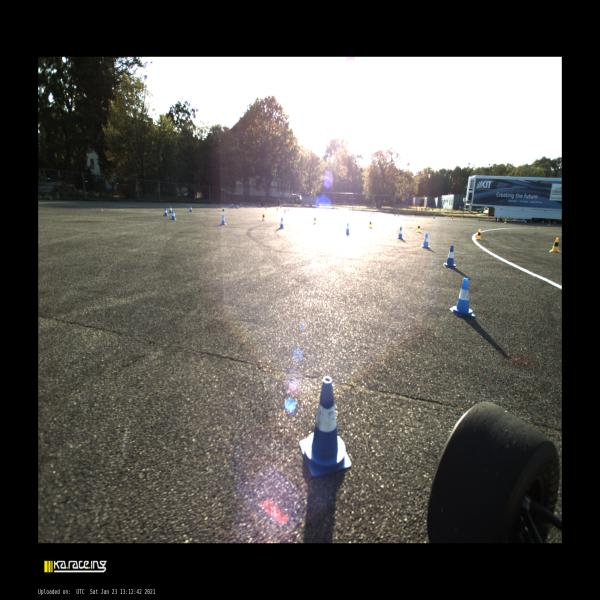blue_cone: (298, 375, 352, 478), (449, 277, 475, 317), (443, 244, 457, 269), (421, 232, 430, 248), (396, 226, 404, 240), (220, 214, 227, 225), (344, 222, 350, 234), (278, 217, 284, 229), (170, 210, 177, 220), (163, 207, 168, 216), (168, 205, 173, 213), (189, 205, 193, 212), (221, 206, 225, 211), (477, 217, 481, 222), (236, 204, 239, 209), (524, 220, 527, 224), (433, 214, 435, 219), (231, 203, 233, 207), (394, 213, 396, 216), (240, 203, 242, 206), (230, 203, 231, 208), (260, 204, 261, 207)
yellow_cone: (548, 237, 562, 253), (475, 228, 482, 241), (415, 222, 422, 232), (261, 212, 266, 221), (368, 218, 372, 228), (313, 215, 317, 224), (450, 216, 454, 221), (283, 208, 286, 213), (397, 213, 400, 218), (276, 206, 278, 212), (504, 218, 506, 224), (265, 205, 267, 210), (548, 221, 550, 226), (287, 208, 289, 212), (280, 205, 282, 208), (299, 205, 300, 208)
